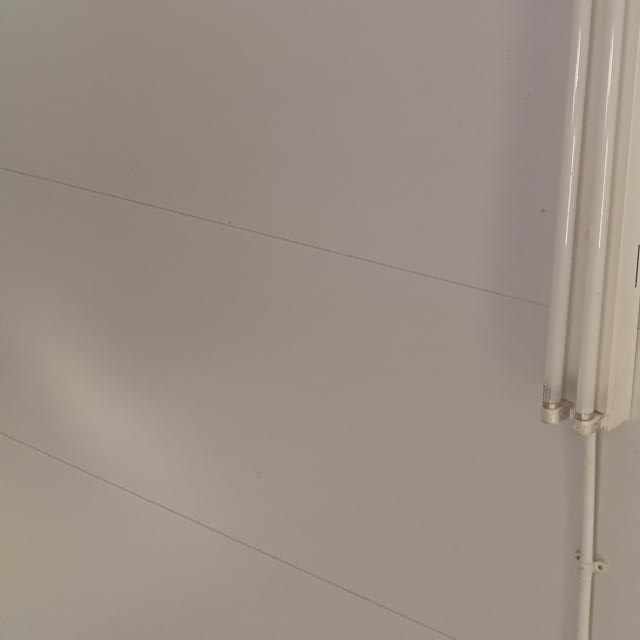fluorescent tube: (502, 0, 640, 440)
